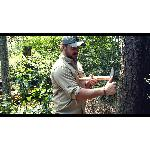Pisau: (99, 57, 121, 92)
